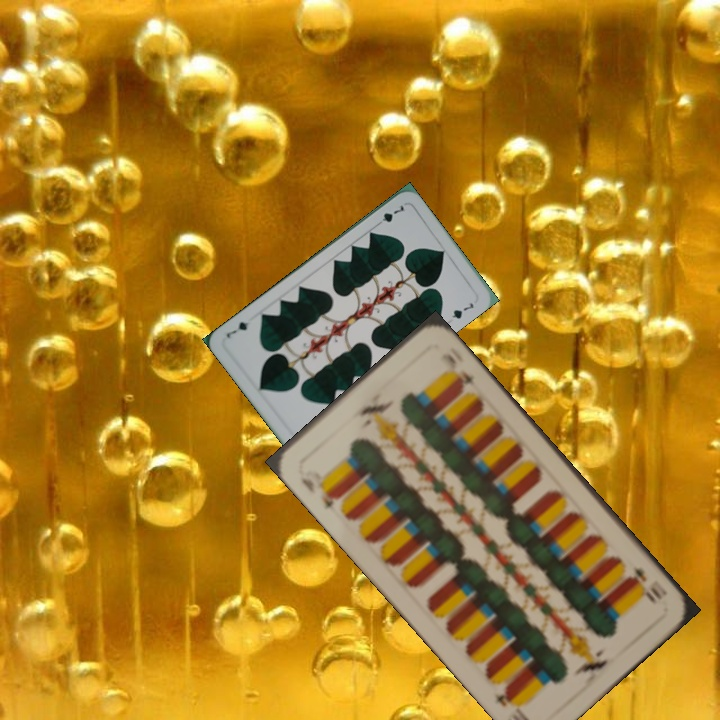E10: (625, 562, 666, 606), (296, 473, 342, 512)
G7: (372, 201, 408, 229)
